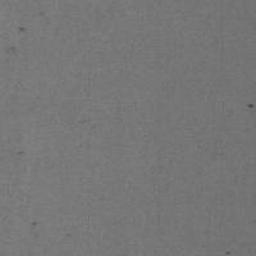Inclusion: (4, 46, 17, 54), (29, 219, 38, 228), (246, 102, 255, 110), (15, 150, 26, 156), (18, 26, 26, 33), (224, 250, 233, 256)
